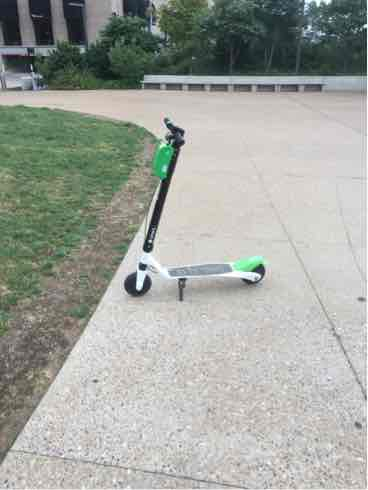scooter: (119, 104, 277, 310)
